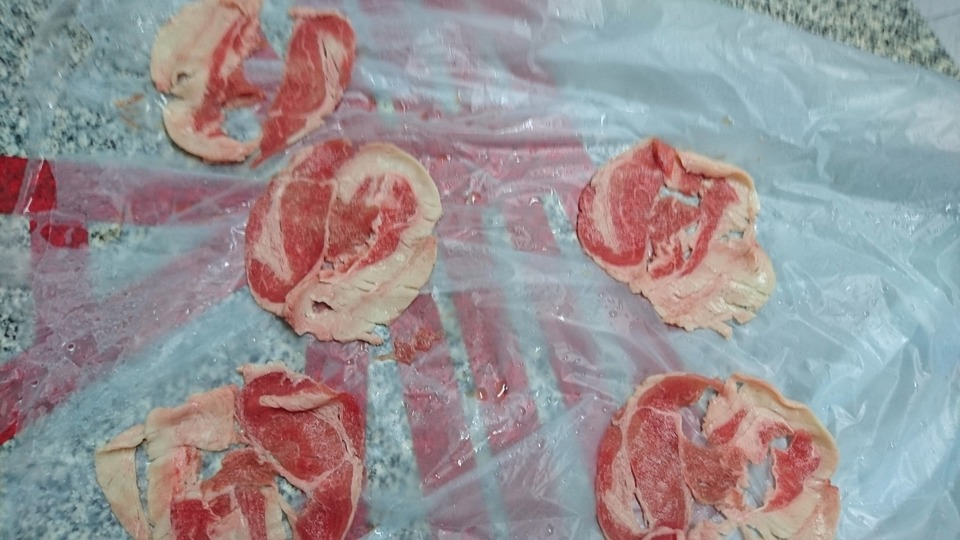restructured meat: (93, 356, 380, 540), (571, 356, 858, 540), (232, 140, 452, 351), (568, 135, 788, 346), (144, 1, 367, 157)
